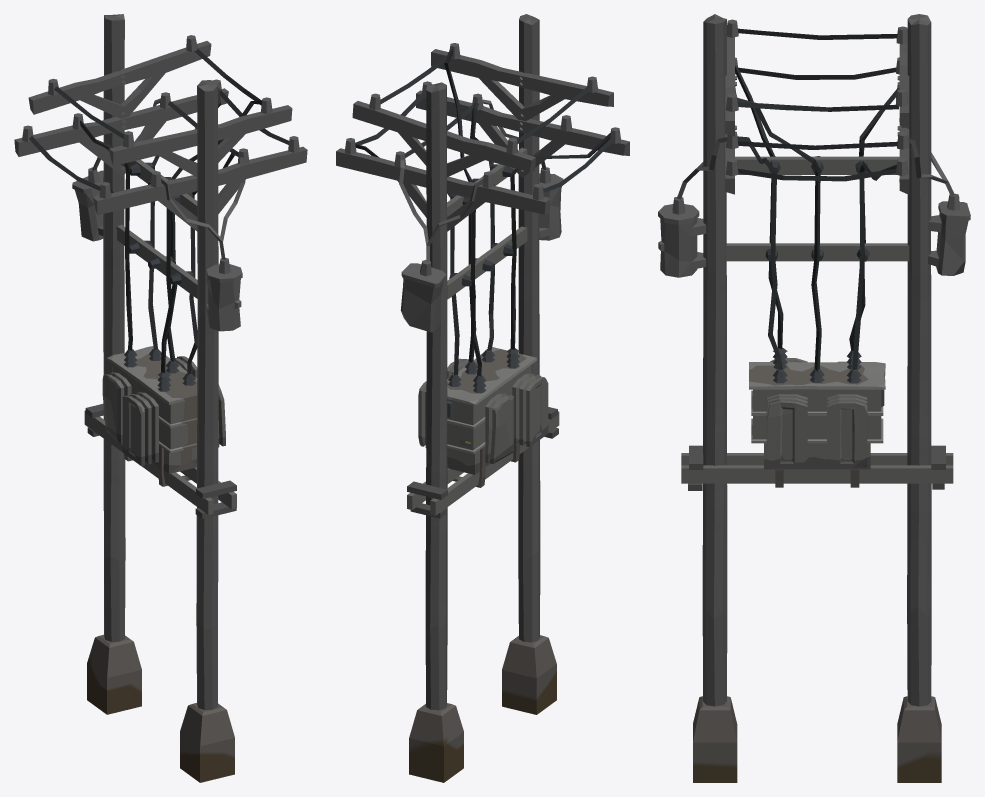
The model's file is SM_Prop_Powerpole_03.glb.
3 renders of one model, left to right at view 1: azimuth 30°, elevation 25°; view 2: azimuth 150°, elevation 25°; view 3: azimuth 270°, elevation 25°, orthographic. The views are drawn at different scales.
Visible parts, largest first — view 1: SM_Prop_Powerpole_03; view 2: SM_Prop_Powerpole_03; view 3: SM_Prop_Powerpole_03.
Part boxes in pixels (bbox=[...]): SM_Prop_Powerpole_03: bbox=[14, 14, 307, 782]; SM_Prop_Powerpole_03: bbox=[336, 14, 629, 782]; SM_Prop_Powerpole_03: bbox=[658, 14, 970, 782].
Bounding box in the file's own units: 2.62 × 8.15 × 3.06.
2 materials, 2 textured.
